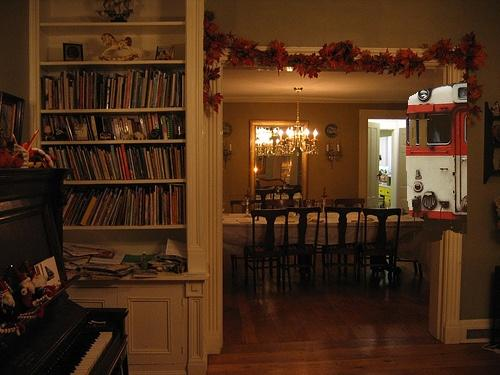tampered: (407, 83, 467, 242)
